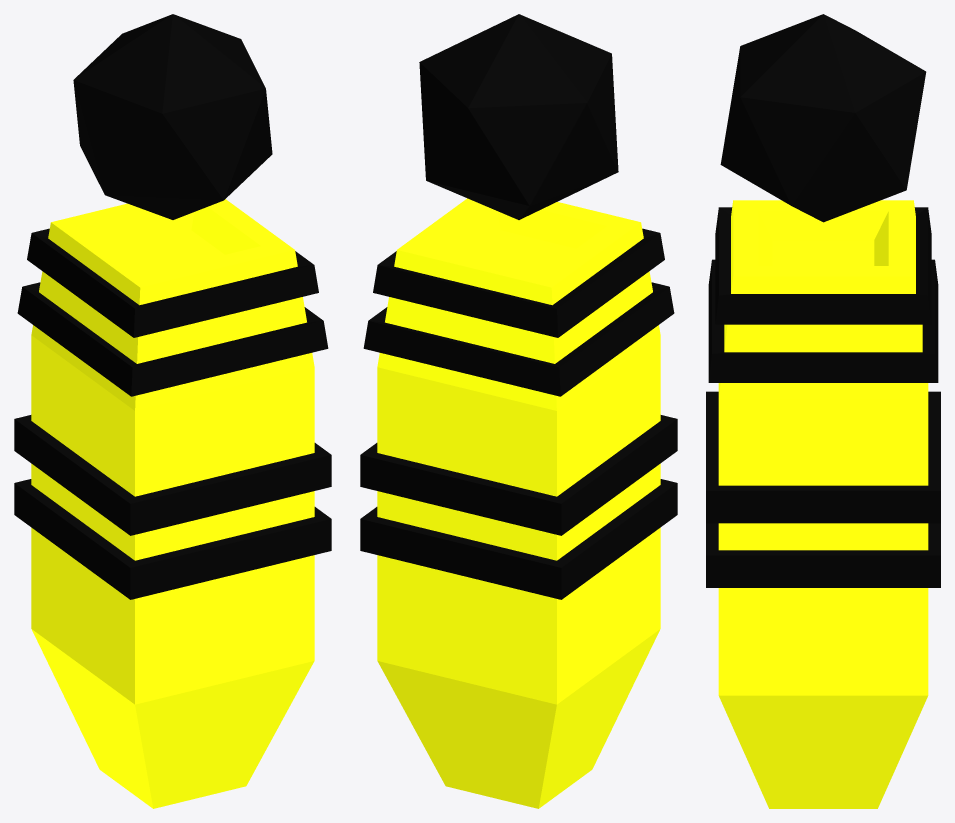
The model's file is Corner_pillar.fbx.
The picture shows the model from 3 angles, left to right: view 1: azimuth 30°, elevation 25°; view 2: azimuth 150°, elevation 25°; view 3: azimuth 270°, elevation 25°; orthographic projection.
Visible parts, largest first — view 1: Corner_pillar; view 2: Corner_pillar; view 3: Corner_pillar.
Part boxes in pixels (x1,y1,x2,y2): Corner_pillar: (14,14,331,808); Corner_pillar: (360,14,677,808); Corner_pillar: (706,14,940,808).
Bounding box in the file's own units: 0.9834 × 3.57 × 0.9834.
